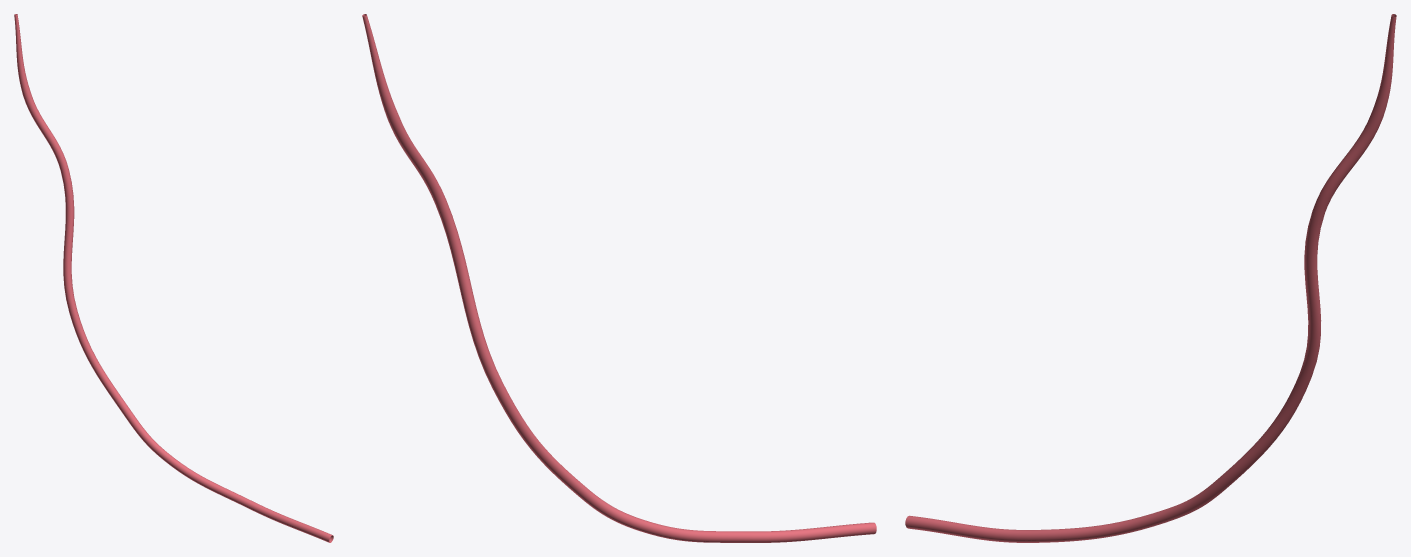
3 views of the same model, side by side, from view 1: azimuth 90°, elevation 25°; view 2: azimuth 150°, elevation 25°; view 3: azimuth 270°, elevation 25° (orthographic). The views are drawn at different scales.
Parts seen in each view (by area): view 1: ZA_d8fb0fd0eb5944a3; view 2: ZA_d8fb0fd0eb5944a3; view 3: ZA_d8fb0fd0eb5944a3.
Boxes of the visible parts, box(x1,y1,x2,y2) form: ZA_d8fb0fd0eb5944a3: box(14, 14, 333, 542); ZA_d8fb0fd0eb5944a3: box(362, 14, 876, 542); ZA_d8fb0fd0eb5944a3: box(905, 14, 1396, 542).
Bounding box in the file's own units: 0.028 × 0.0564 × 0.0378.
